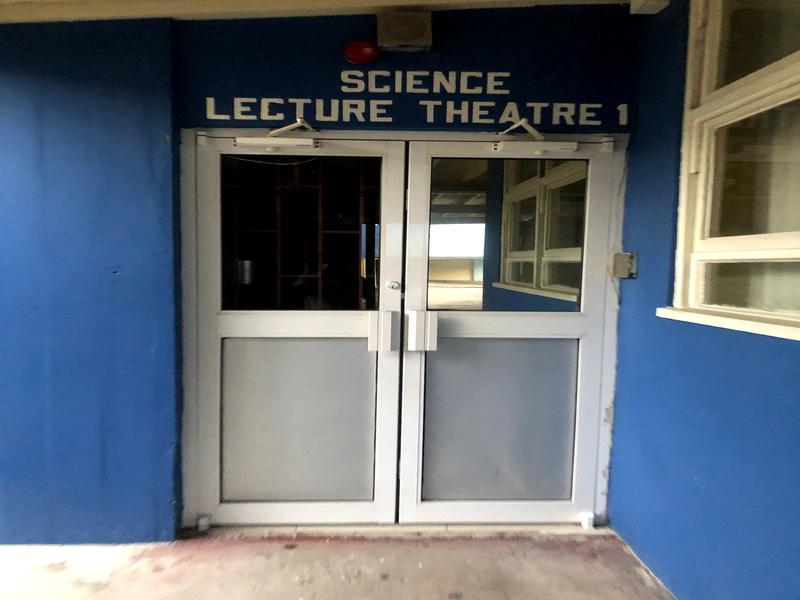18.0051836_-76.7497262_pclt1: (155, 60, 645, 552)
